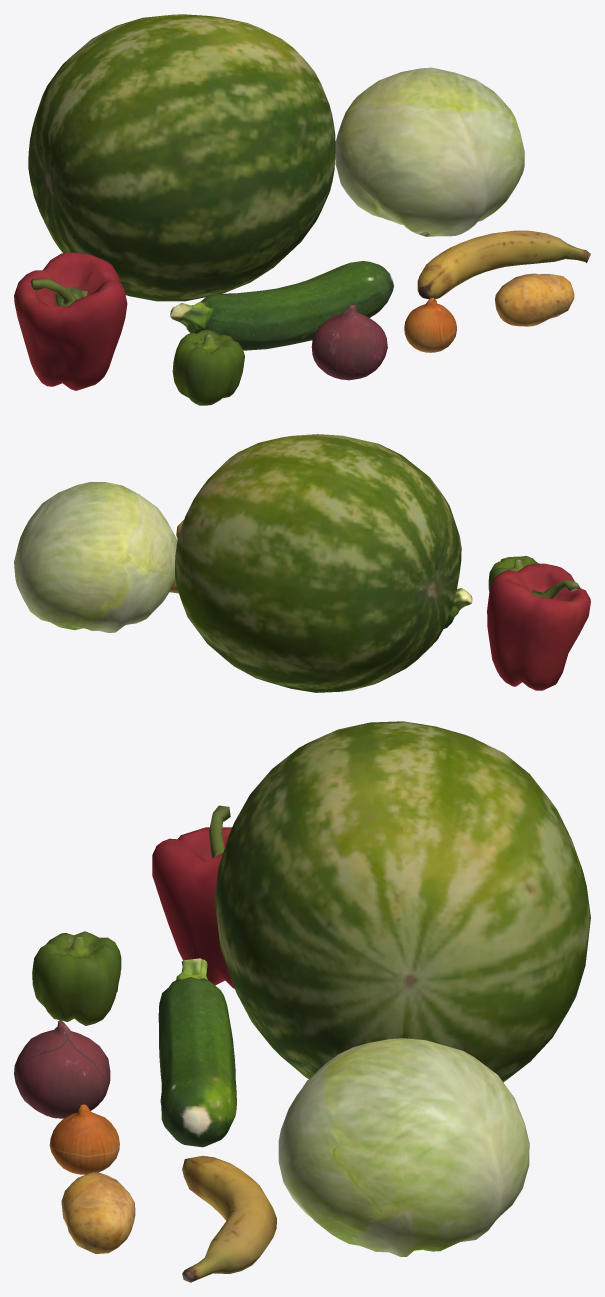
Rendered from asset.gltf.
The picture shows the model from 3 angles, top to bottom: view 1: azimuth 30°, elevation 25°; view 2: azimuth 150°, elevation 25°; view 3: azimuth 270°, elevation 25°; orthographic projection. The views are drawn at different scales.
Visible parts, largest first — view 1: watermelon_0, cabbage_2, pepper big_6, zuchinni_8, banana_1, pepper mini_5, onion big_3, potato_7, onion mini_4; view 2: watermelon_0, cabbage_2, pepper big_6, pepper mini_5, zuchinni_8; view 3: watermelon_0, cabbage_2, zuchinni_8, pepper big_6, banana_1, onion big_3, pepper mini_5, potato_7, onion mini_4.
Boxes of the visible parts, left/top/right/bottom form: watermelon_0: left=28, top=14, right=335, bottom=301; cabbage_2: left=335, top=67, right=524, bottom=236; pepper big_6: left=14, top=252, right=127, bottom=390; zuchinni_8: left=170, top=261, right=393, bottom=350; banana_1: left=417, top=230, right=590, bottom=299; pepper mini_5: left=172, top=329, right=244, bottom=405; onion big_3: left=311, top=304, right=387, bottom=380; potato_7: left=495, top=273, right=574, bottom=326; onion mini_4: left=404, top=298, right=456, bottom=352; watermelon_0: left=175, top=434, right=461, bottom=692; cabbage_2: left=14, top=482, right=177, bottom=632; pepper big_6: left=487, top=563, right=590, bottom=690; pepper mini_5: left=488, top=556, right=540, bottom=591; zuchinni_8: left=443, top=588, right=472, bottom=628; watermelon_0: left=215, top=721, right=590, bottom=1082; cabbage_2: left=278, top=1038, right=529, bottom=1256; zuchinni_8: left=158, top=958, right=236, bottom=1147; pepper big_6: left=152, top=805, right=234, bottom=988; banana_1: left=182, top=1155, right=276, bottom=1282; onion big_3: left=14, top=1020, right=110, bottom=1118; pepper mini_5: left=32, top=931, right=121, bottom=1025; potato_7: left=61, top=1172, right=135, bottom=1253; onion mini_4: left=49, top=1104, right=119, bottom=1174.
Bounding box in the file's own units: 0.7022 × 0.322 × 0.4862.
9 materials, 9 textured.
